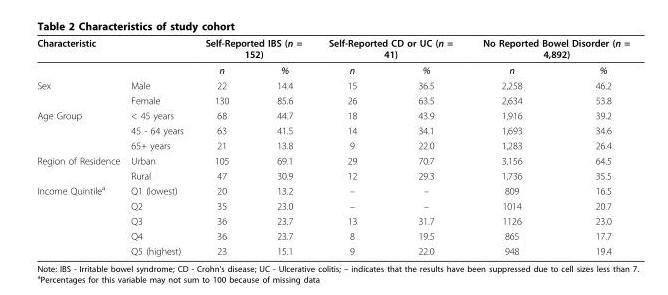table: (36, 36, 629, 256)
table column: (467, 36, 558, 256), (36, 36, 124, 256), (386, 36, 467, 256), (314, 36, 386, 256), (558, 36, 629, 256), (124, 36, 193, 256), (252, 36, 314, 256), (193, 36, 252, 256)
table column header: (36, 36, 629, 77)
table row: (36, 36, 629, 61), (36, 61, 629, 77), (36, 182, 629, 198), (36, 77, 629, 92), (36, 92, 629, 107), (36, 107, 629, 122), (36, 122, 629, 137), (36, 137, 629, 152), (36, 152, 629, 167), (36, 167, 629, 182), (36, 198, 629, 213), (36, 213, 629, 228), (36, 228, 629, 243), (36, 243, 629, 256)
table spanning cell: (36, 182, 124, 256), (467, 36, 629, 61), (36, 107, 124, 152), (36, 36, 193, 61), (314, 36, 467, 61), (193, 36, 314, 61), (36, 77, 124, 107), (36, 152, 124, 182)
